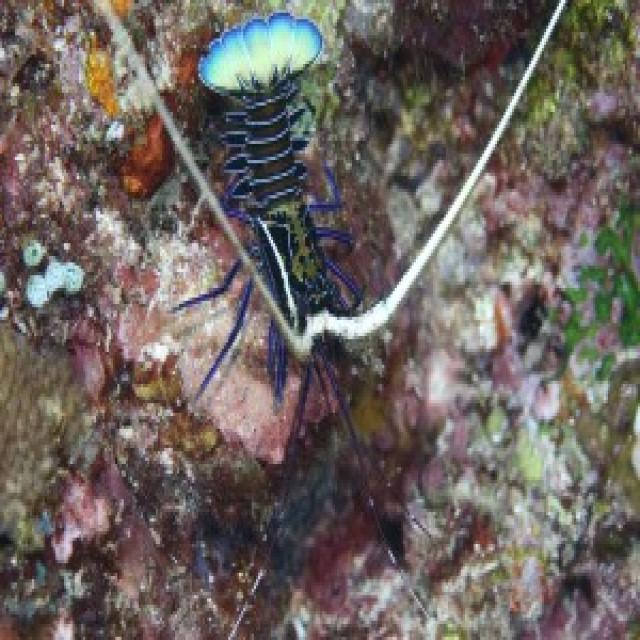lobsters: (63, 0, 560, 486)
